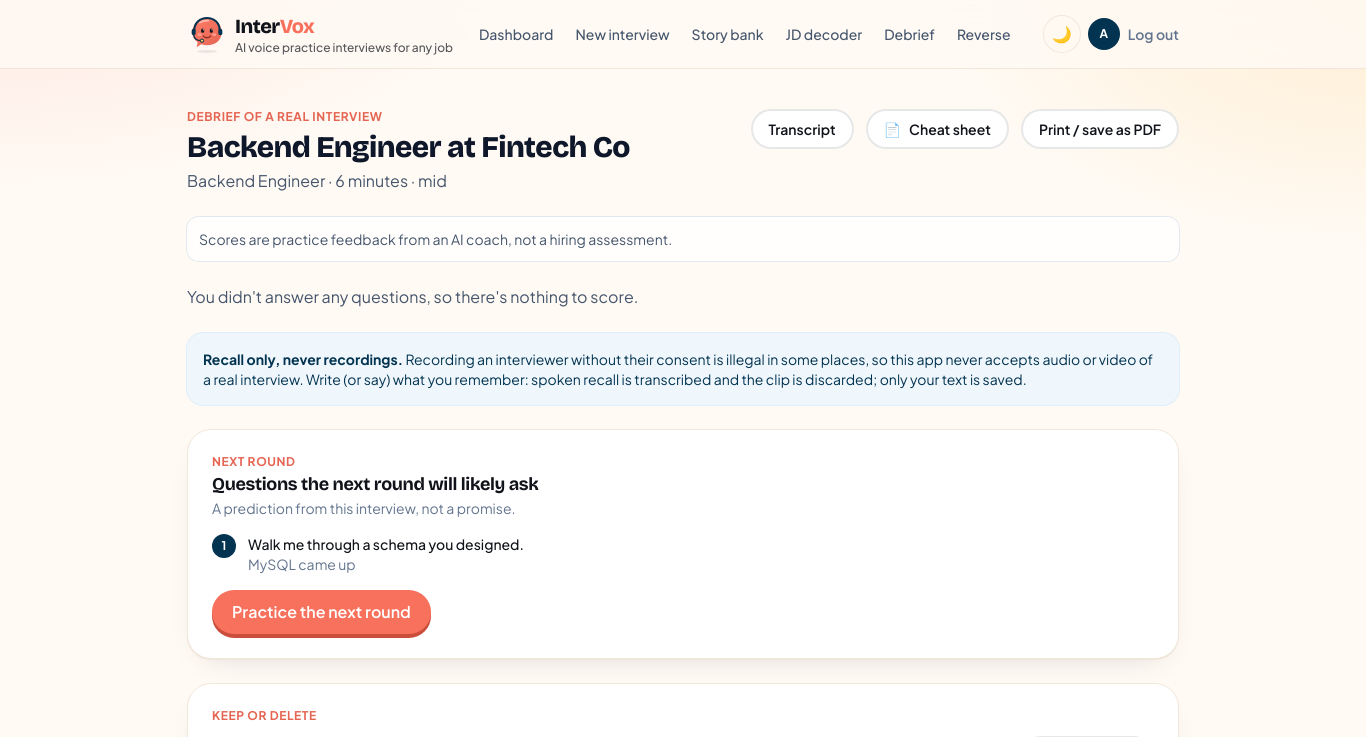
Test: debrief › shows next-round questions and practices them
The image size is (1366, 737).
expect the text "Walk me through a schema you designed." is shown: met, box [248, 535, 524, 553]
expect the text "Recall only, never recordings." is shown: met, box [203, 350, 403, 368]
Click the button "Practice the next round" at (321, 612), box [212, 590, 431, 634]
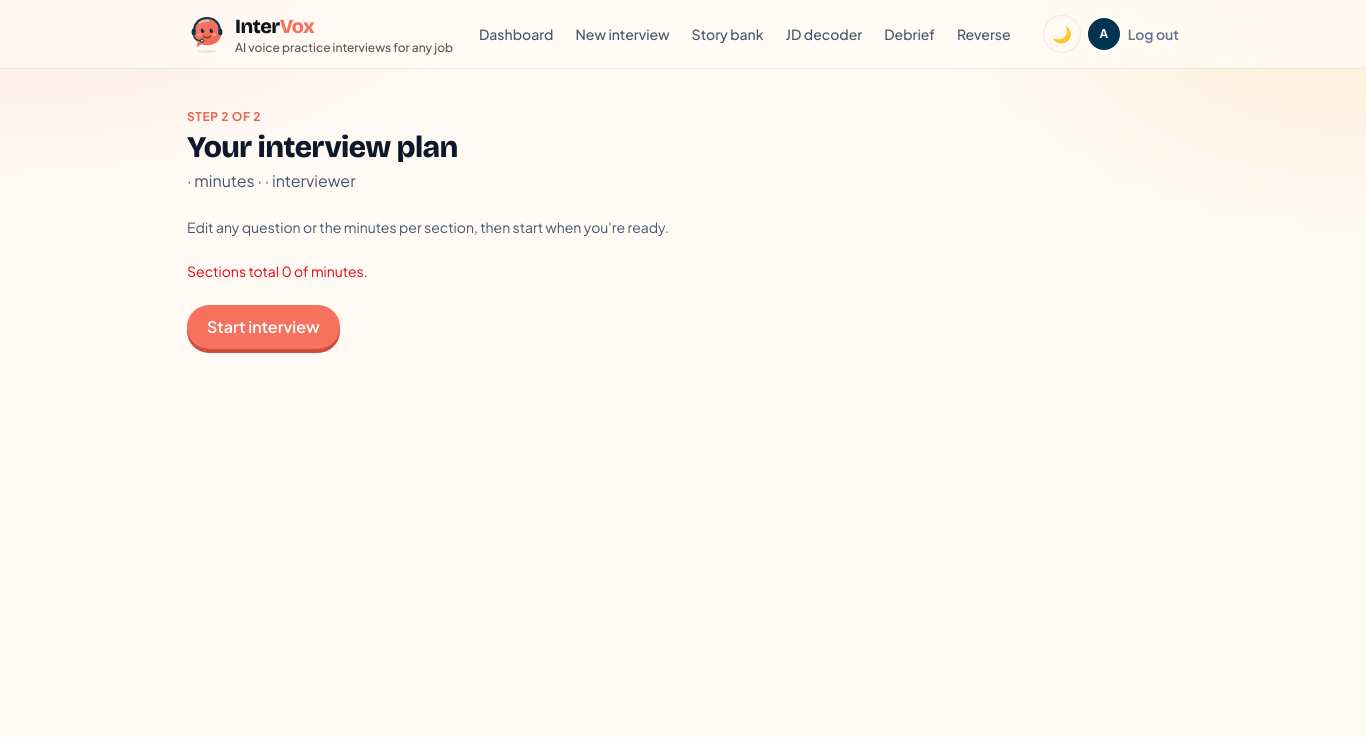
expect the heading "Your interview plan" is shown: met, box [187, 129, 458, 165]
